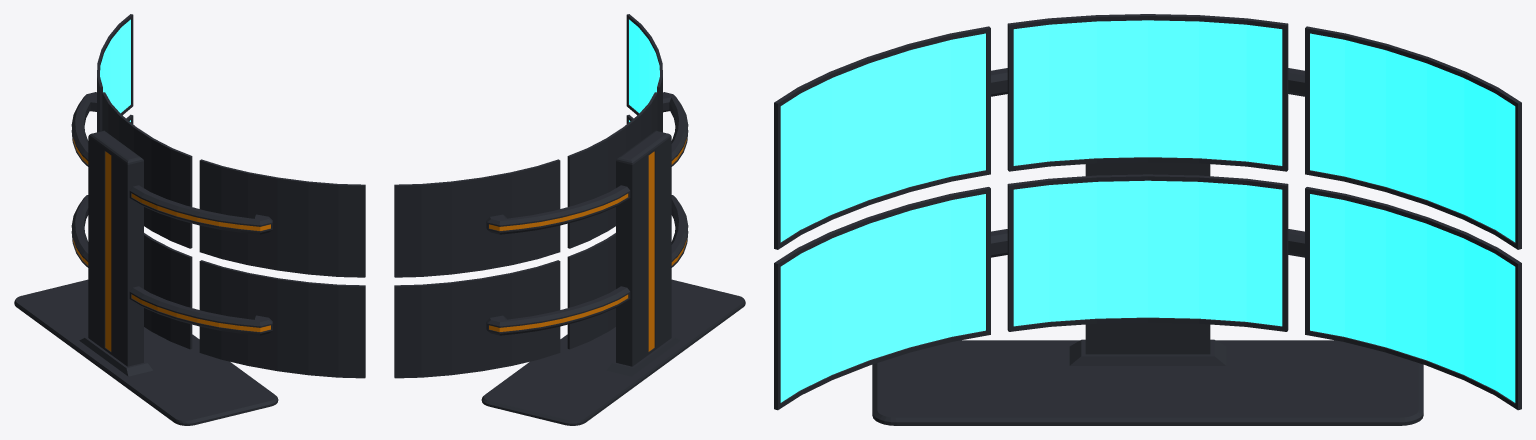
The model's file is surveillance_console.glb.
3 renders of one model, left to right at view 1: azimuth 30°, elevation 25°; view 2: azimuth 150°, elevation 25°; view 3: azimuth 270°, elevation 25°, orthographic. The views are drawn at different scales.
Visible parts, largest first — view 1: SM_MultiScreen_Surveillance_Console; view 2: SM_MultiScreen_Surveillance_Console; view 3: SM_MultiScreen_Surveillance_Console.
Part boxes in pixels (box(x1,y1,x2,y2)): SM_MultiScreen_Surveillance_Console: box(14, 14, 365, 425); SM_MultiScreen_Surveillance_Console: box(394, 14, 745, 425); SM_MultiScreen_Surveillance_Console: box(774, 14, 1521, 425).
Size of the model in its own units: 0.5848 by 0.8266 by 1.54.
